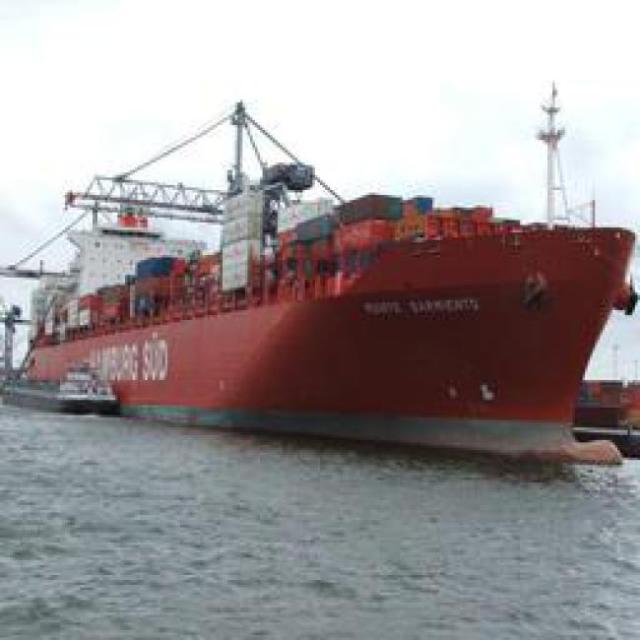boat: (19, 228, 622, 468)
